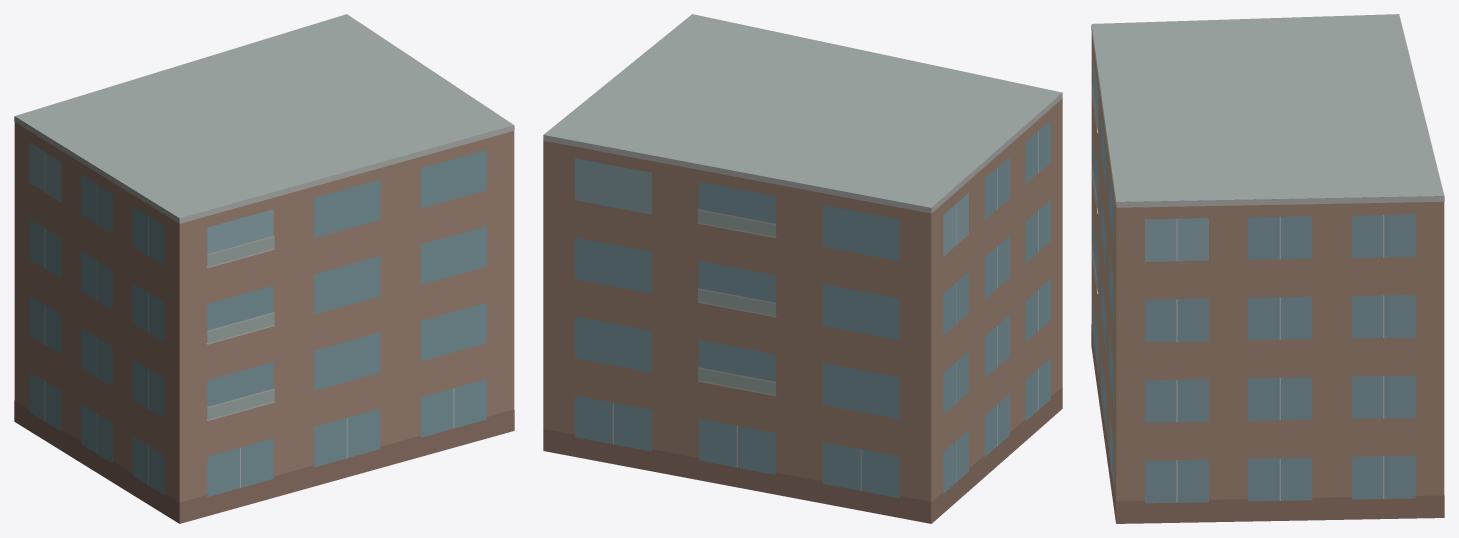
Rendered from survey-upis-32736026.glb.
3 renders of one model, left to right at view 1: azimuth 30°, elevation 25°; view 2: azimuth 150°, elevation 25°; view 3: azimuth 270°, elevation 25°, orthographic. The views are drawn at different scales.
Parts seen in each view (by area): view 1: survey-upis-32736026.tmp; view 2: survey-upis-32736026.tmp; view 3: survey-upis-32736026.tmp.
Boxes of the visible parts, bbox=[...] form: survey-upis-32736026.tmp: bbox=[14, 14, 514, 523]; survey-upis-32736026.tmp: bbox=[543, 14, 1062, 523]; survey-upis-32736026.tmp: bbox=[1091, 14, 1444, 523].
Bounding box in the file's own units: 16.89 × 13.48 × 13.41.
